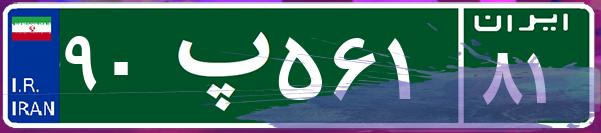0: (110, 28, 158, 105)
1: (385, 28, 445, 110), (525, 38, 570, 115)
5: (273, 28, 330, 110)
6: (330, 28, 385, 110)
8: (475, 38, 525, 113)
9: (57, 26, 110, 107)
پ: (158, 15, 273, 115)
